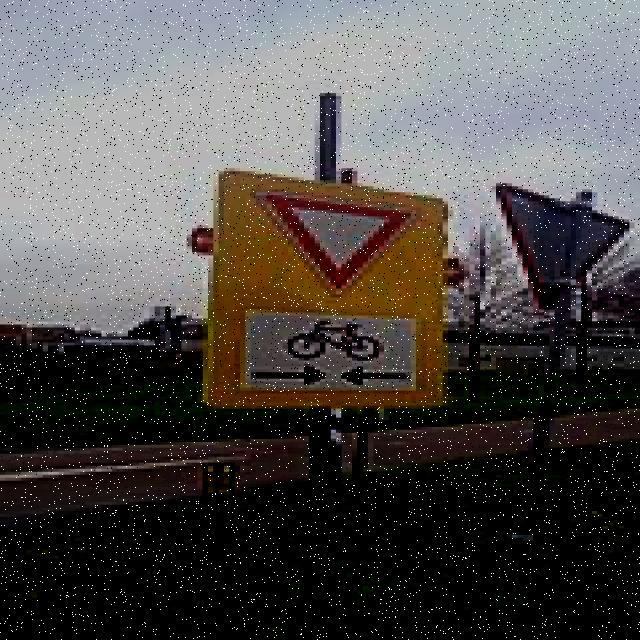Traffic sign: (182, 137, 635, 436)
